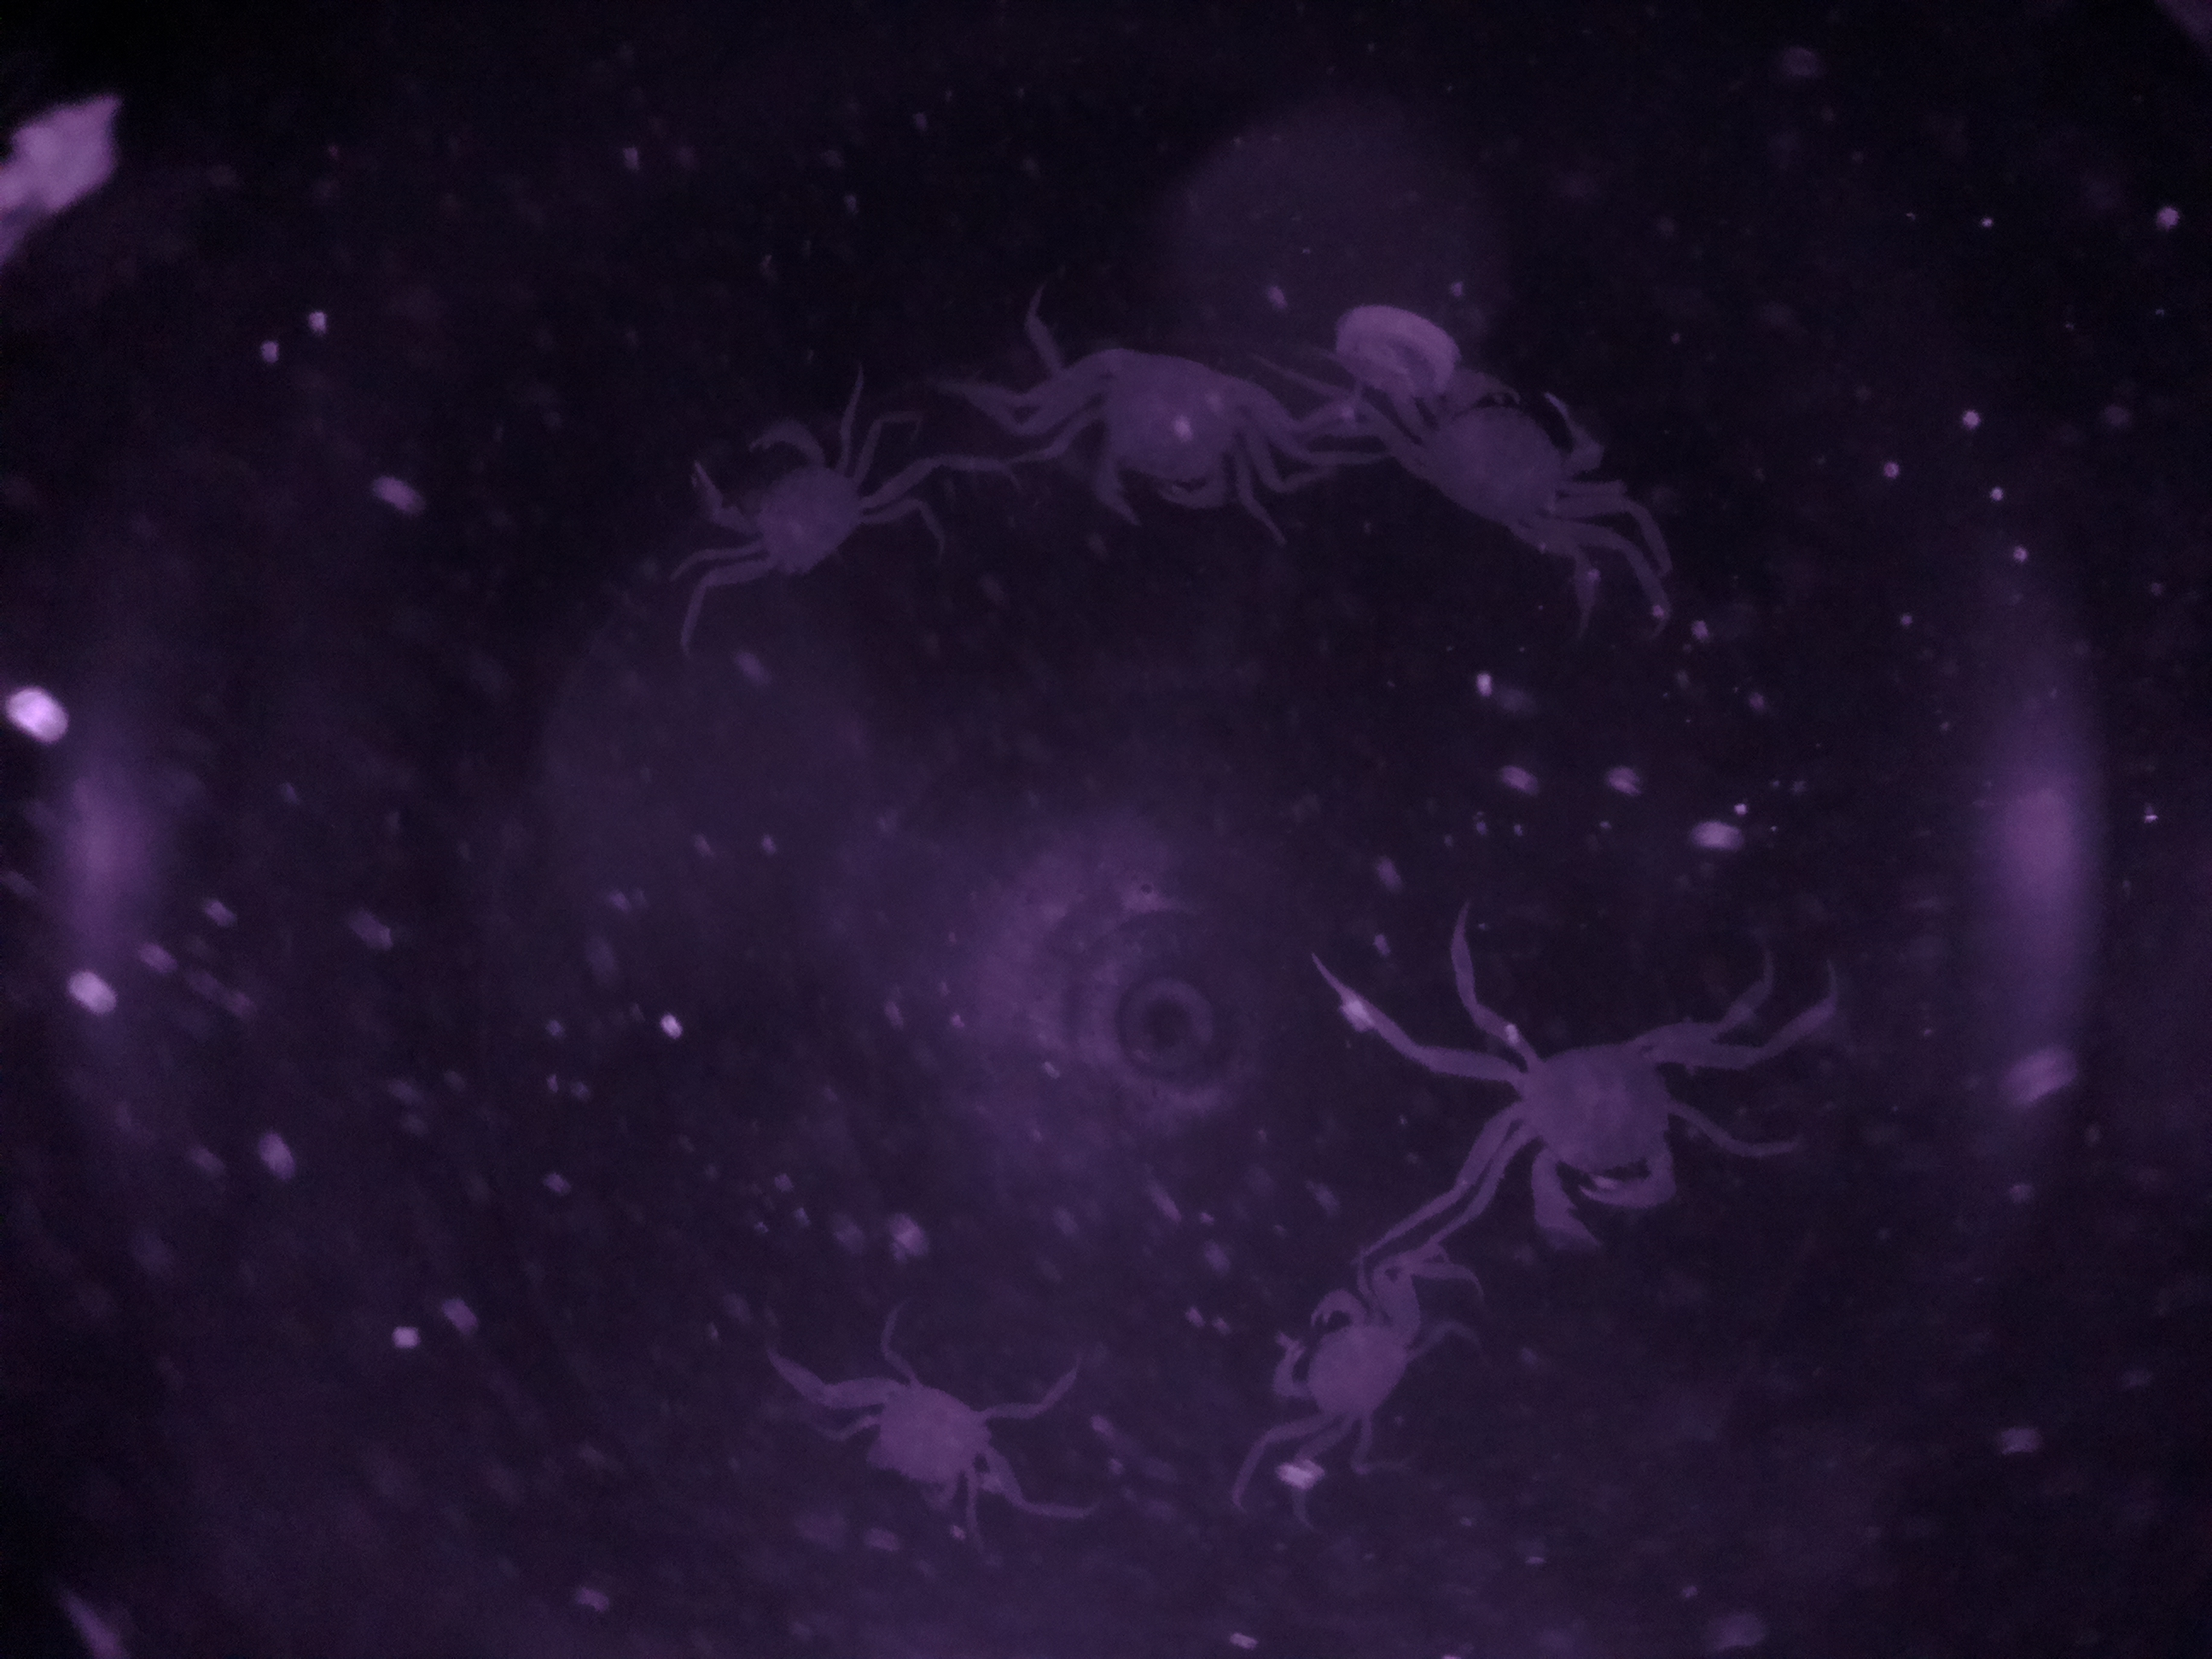Crab: (1453, 1004, 1723, 1288), (1033, 314, 1327, 549), (1362, 336, 1630, 556), (683, 394, 928, 610), (1231, 1263, 1425, 1445)
